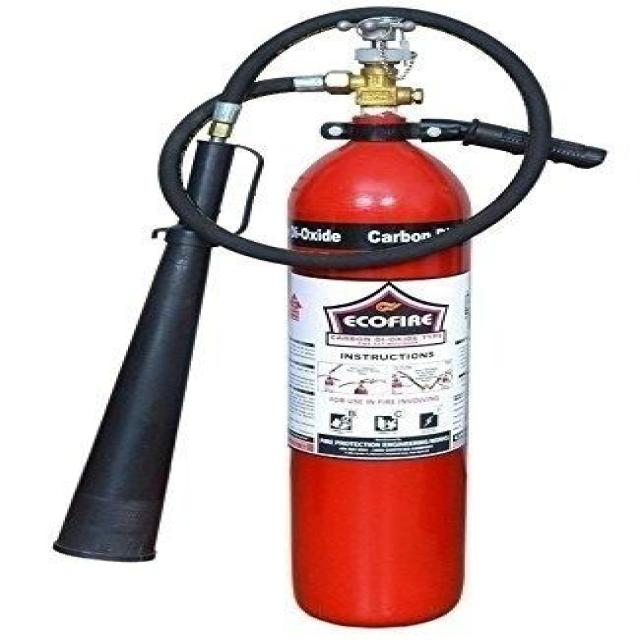fire_extinguisher: (43, 1, 612, 630)
